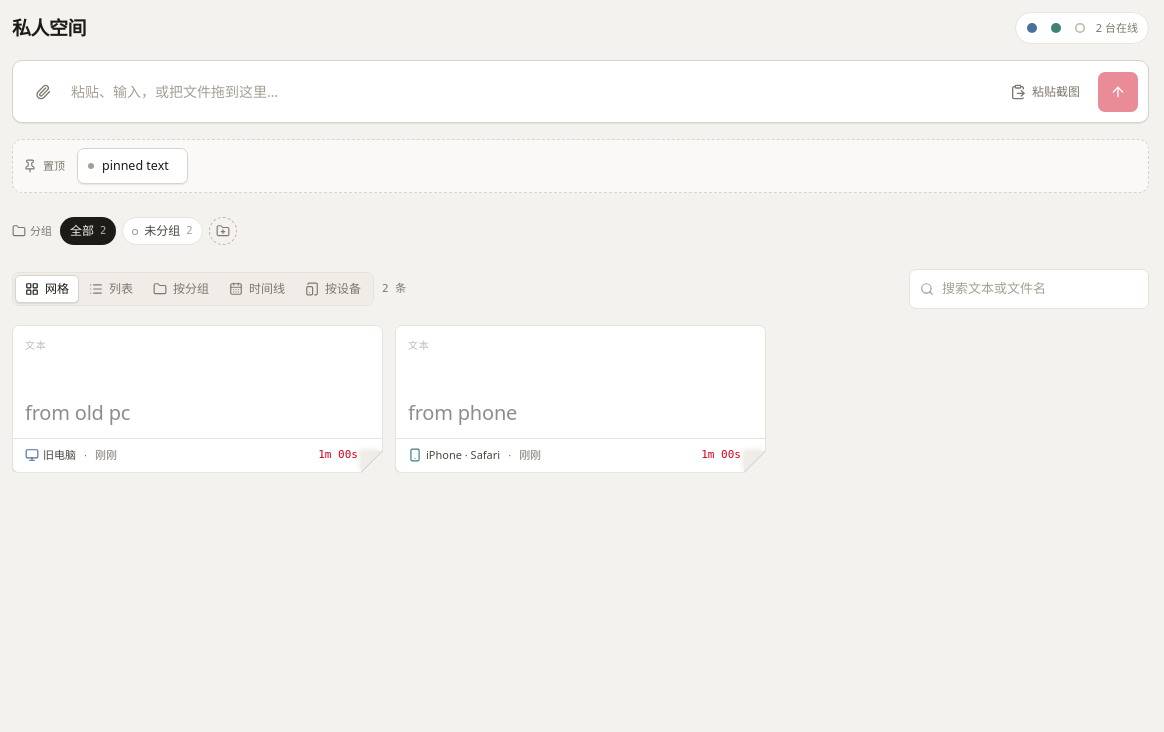
Test case: named presence and pin chips › shows a named dot per online device, device labels on cards, and pinned chips
The image size is (1164, 732).
expect the text "from phone" is shown: met, box [408, 399, 517, 426]
expect the text "iPhone · Safari" is shown: met, box [426, 447, 500, 464]
Click the button "按设备": (333, 289) [295, 269, 371, 309]
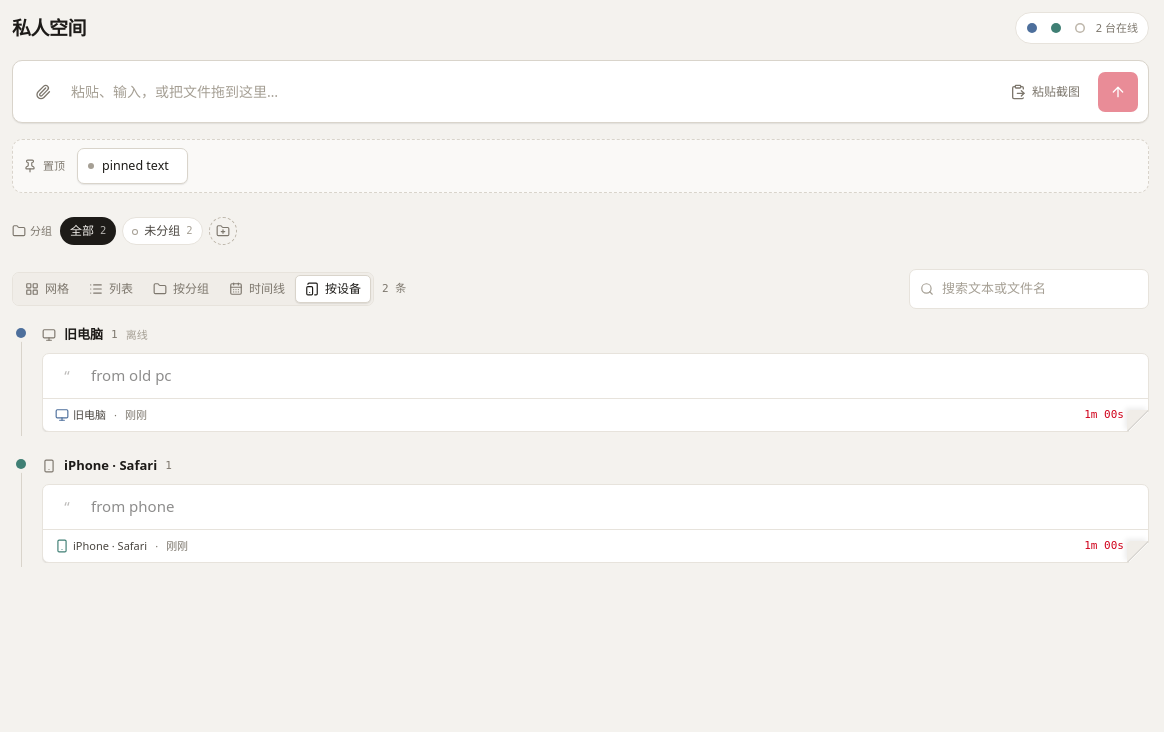
expect the heading "iPhone · Safari 1" is shown: met, box [42, 456, 172, 474]
expect the heading "旧电脑 1 离线" is shown: met, box [42, 325, 148, 343]
